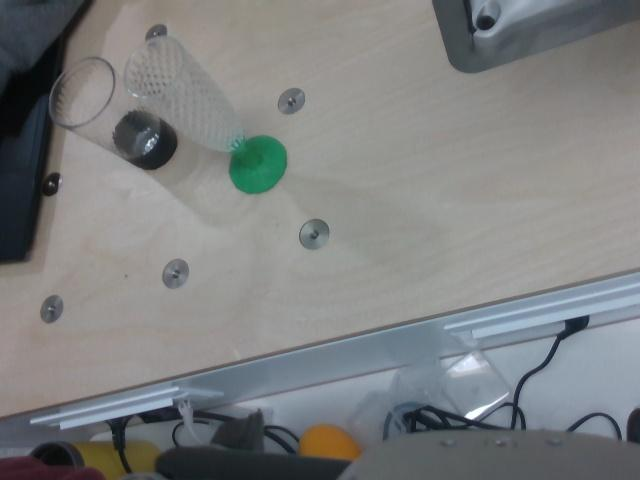black_cup: (113, 108, 178, 171)
green_cup: (228, 134, 288, 196)
